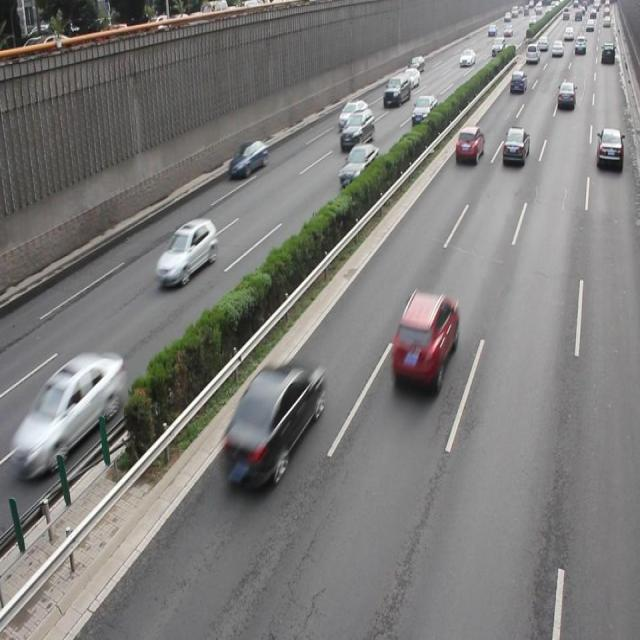car: (13, 348, 126, 476), (222, 360, 326, 486), (392, 289, 456, 396), (158, 218, 218, 282), (339, 142, 378, 186), (229, 138, 266, 178), (340, 109, 373, 148), (500, 125, 529, 168), (454, 124, 484, 165), (595, 127, 621, 172), (410, 93, 435, 125), (338, 99, 366, 127)
